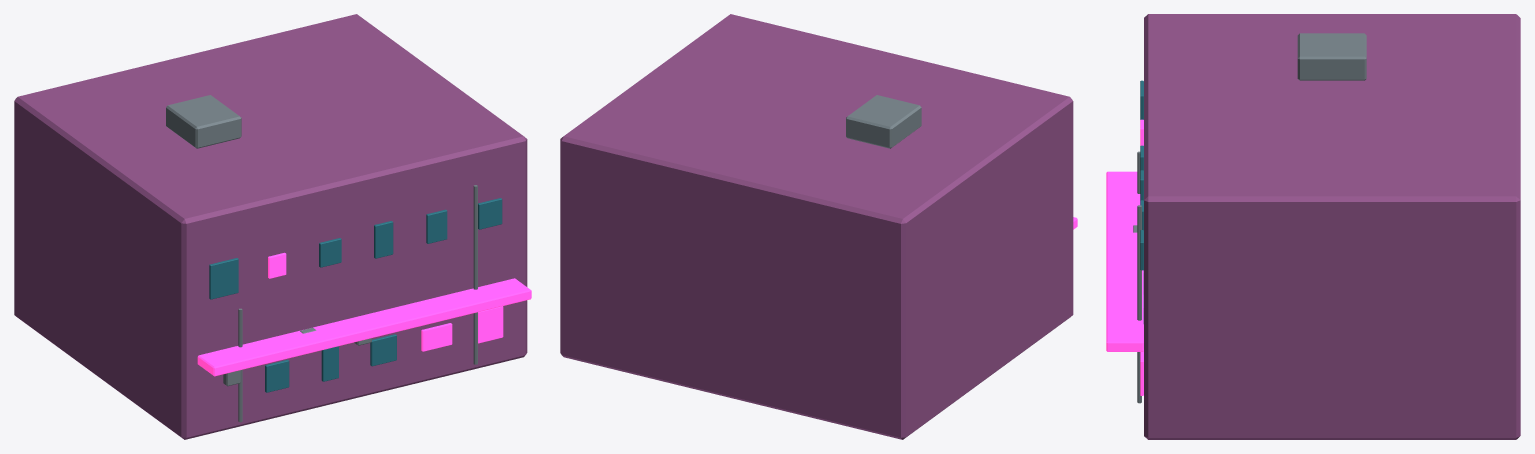
The model's file is building_012_seed11.glb.
3 renders of one model, left to right at view 1: azimuth 30°, elevation 25°; view 2: azimuth 150°, elevation 25°; view 3: azimuth 270°, elevation 25°, orthographic. The views are drawn at different scales.
Visible parts, largest first — view 1: building_012_seed11; view 2: building_012_seed11; view 3: building_012_seed11.
Part boxes in pixels (left/top/right/bottom): building_012_seed11: left=14, top=14, right=531, bottom=439; building_012_seed11: left=560, top=14, right=1077, bottom=439; building_012_seed11: left=1106, top=14, right=1520, bottom=439.
Size of the model in its own units: 8.26 by 5.54 by 7.77.
